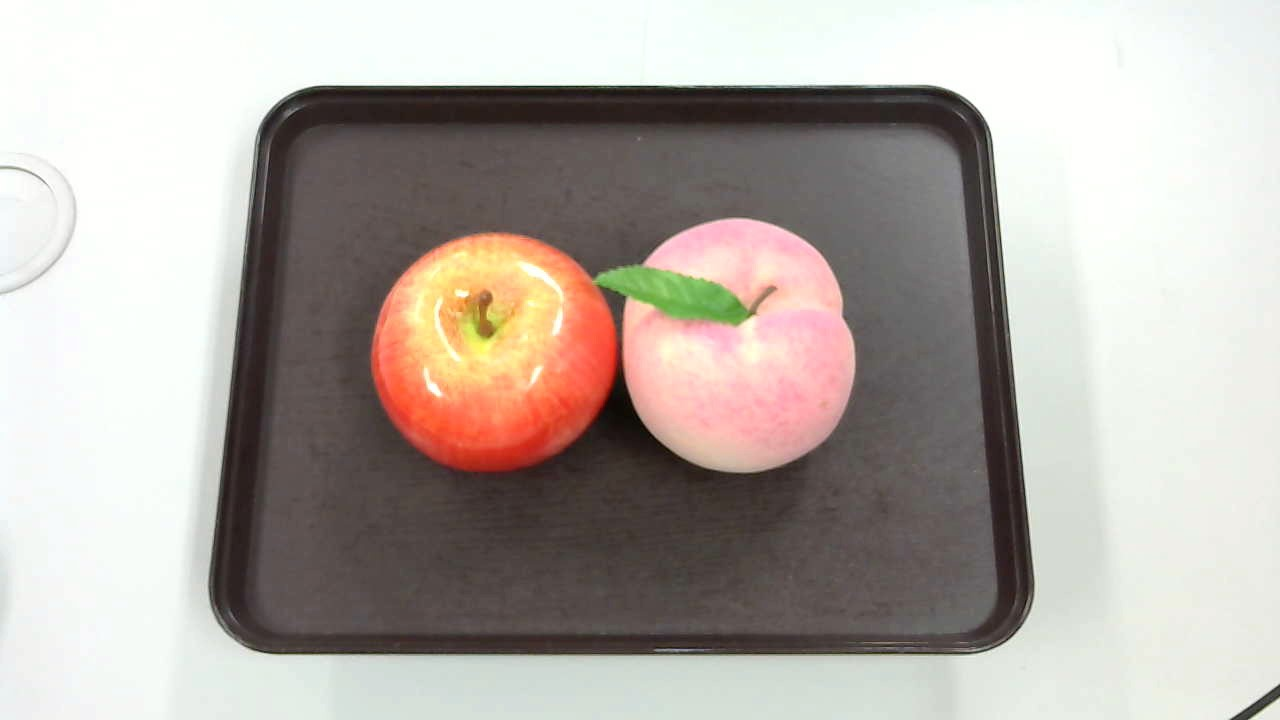peach: (593, 213, 856, 476)
red apple: (372, 232, 616, 477)
